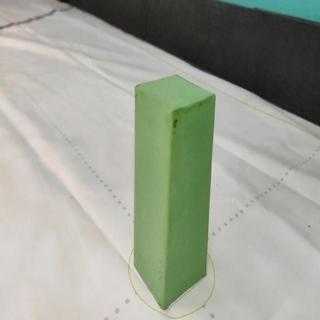greenbox: (133, 72, 217, 309)
